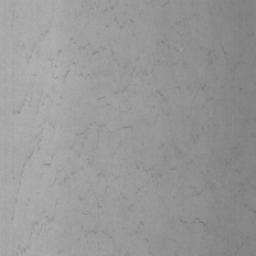Silk spot: (76, 122, 96, 139), (191, 218, 209, 233), (16, 245, 30, 256), (12, 104, 24, 114), (26, 150, 34, 160)
